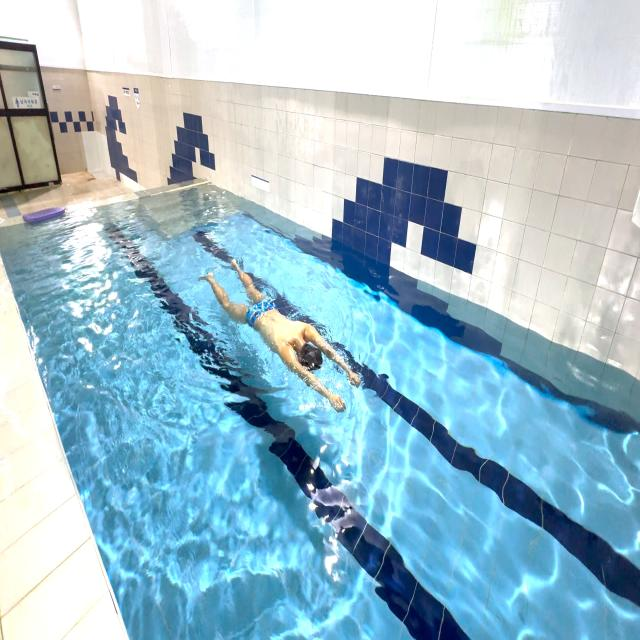Swimming: (196, 237, 368, 424)
